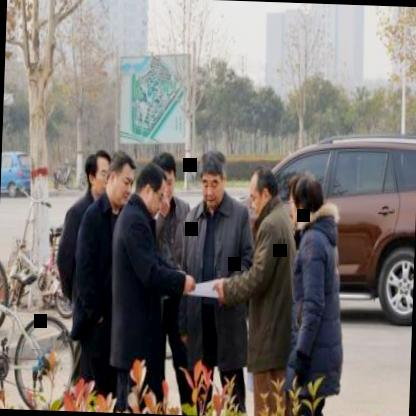head: (289, 170, 327, 232), (197, 149, 229, 213), (137, 158, 169, 220), (107, 152, 138, 210), (247, 162, 278, 218), (152, 149, 179, 211), (84, 150, 110, 200)
